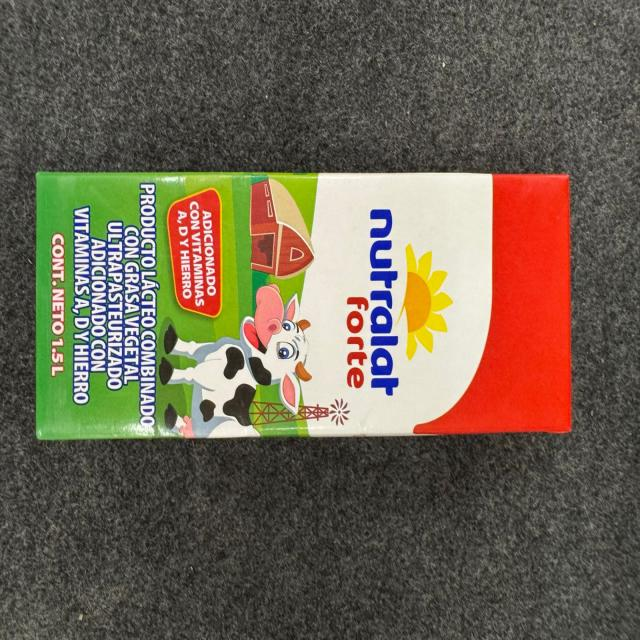PLC NUTRALAT FORTE 1.5 LT: (34, 172, 573, 441)
